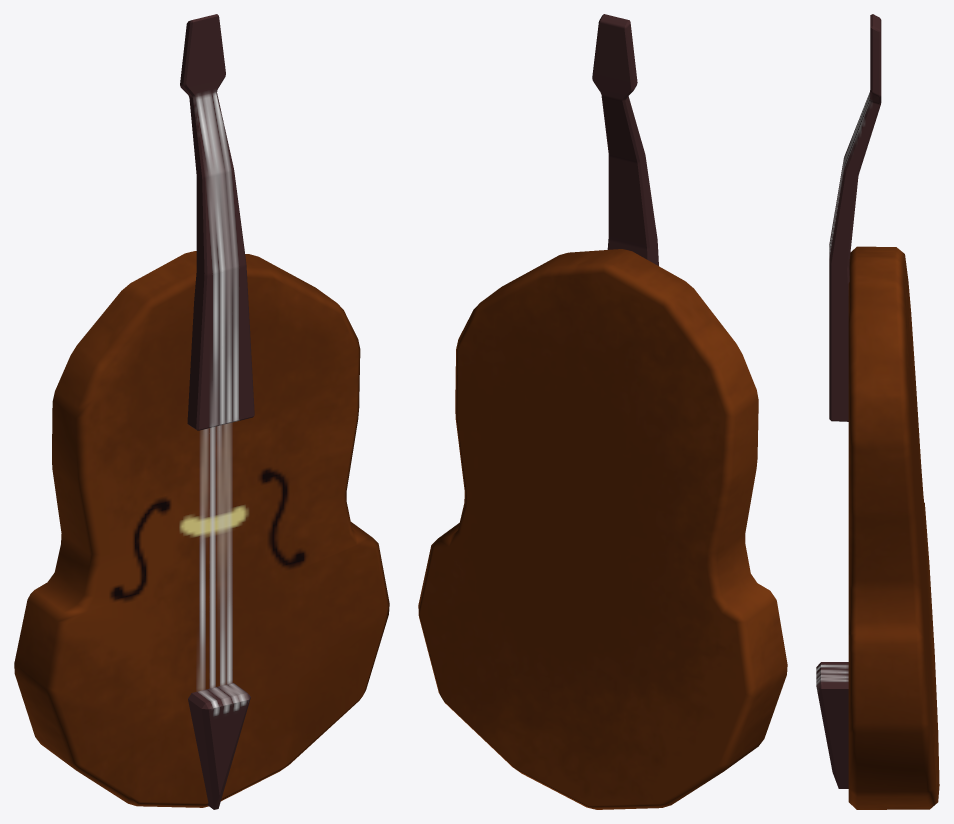
The model's file is bass.fbx.
3 views of the same model, side by side, from view 1: azimuth 30°, elevation 25°; view 2: azimuth 150°, elevation 25°; view 3: azimuth 270°, elevation 25° (orthographic).
Parts seen in each view (by area): view 1: polySurface383; view 2: polySurface383; view 3: polySurface383.
Boxes of the visible parts, x1=… form: polySurface383: x1=14, y1=14, x2=389, y2=809; polySurface383: x1=418, y1=14, x2=787, y2=809; polySurface383: x1=816, y1=14, x2=939, y2=809.
Bounding box in the file's own units: 0.7664 × 1.67 × 0.2406.
Materials: 1 (1 with a texture image).
